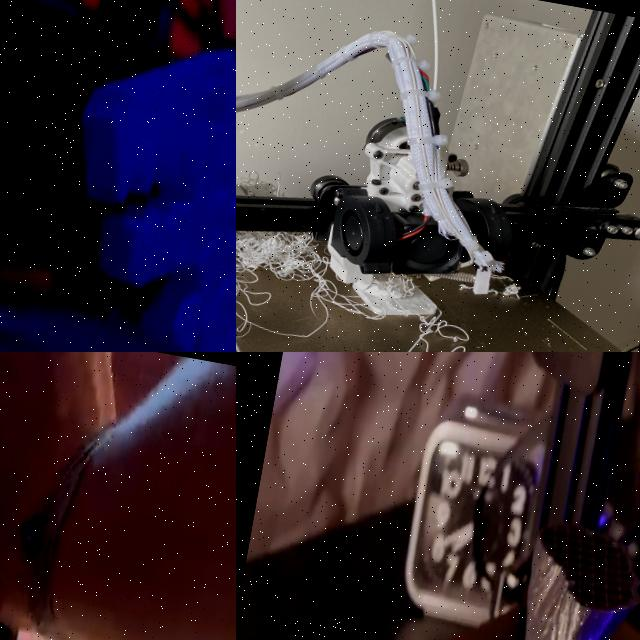spaghetti: (236, 179, 525, 352)
